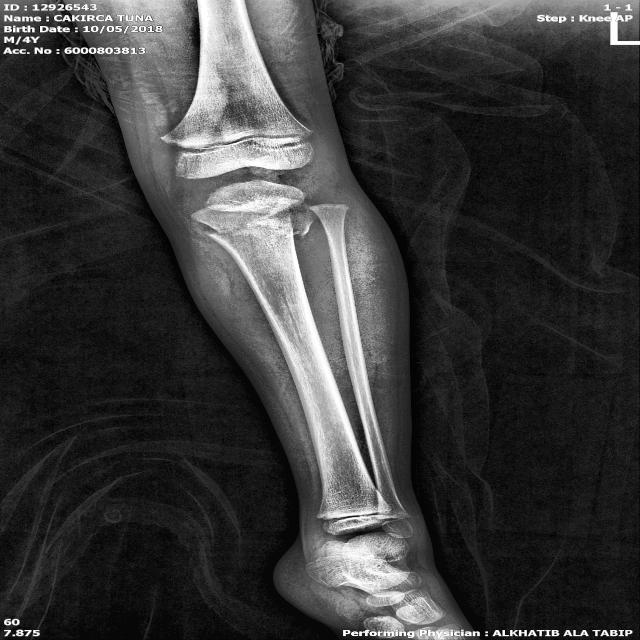Fracture: (186, 224, 314, 244)
